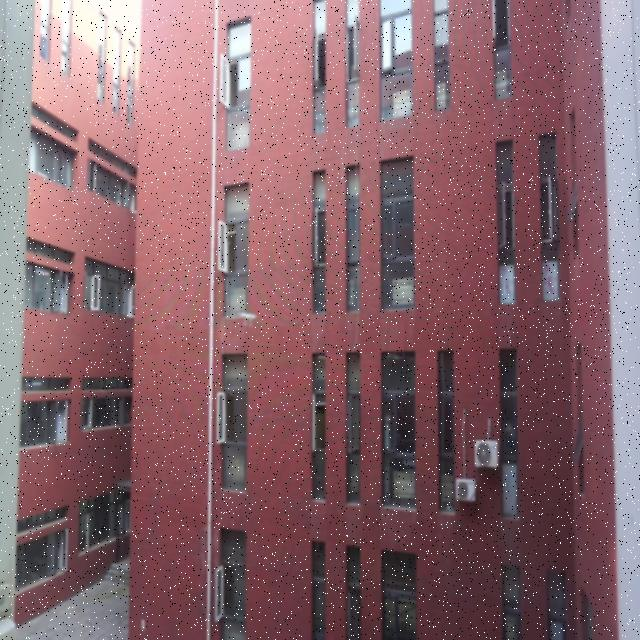UAV: (237, 312, 258, 327)
